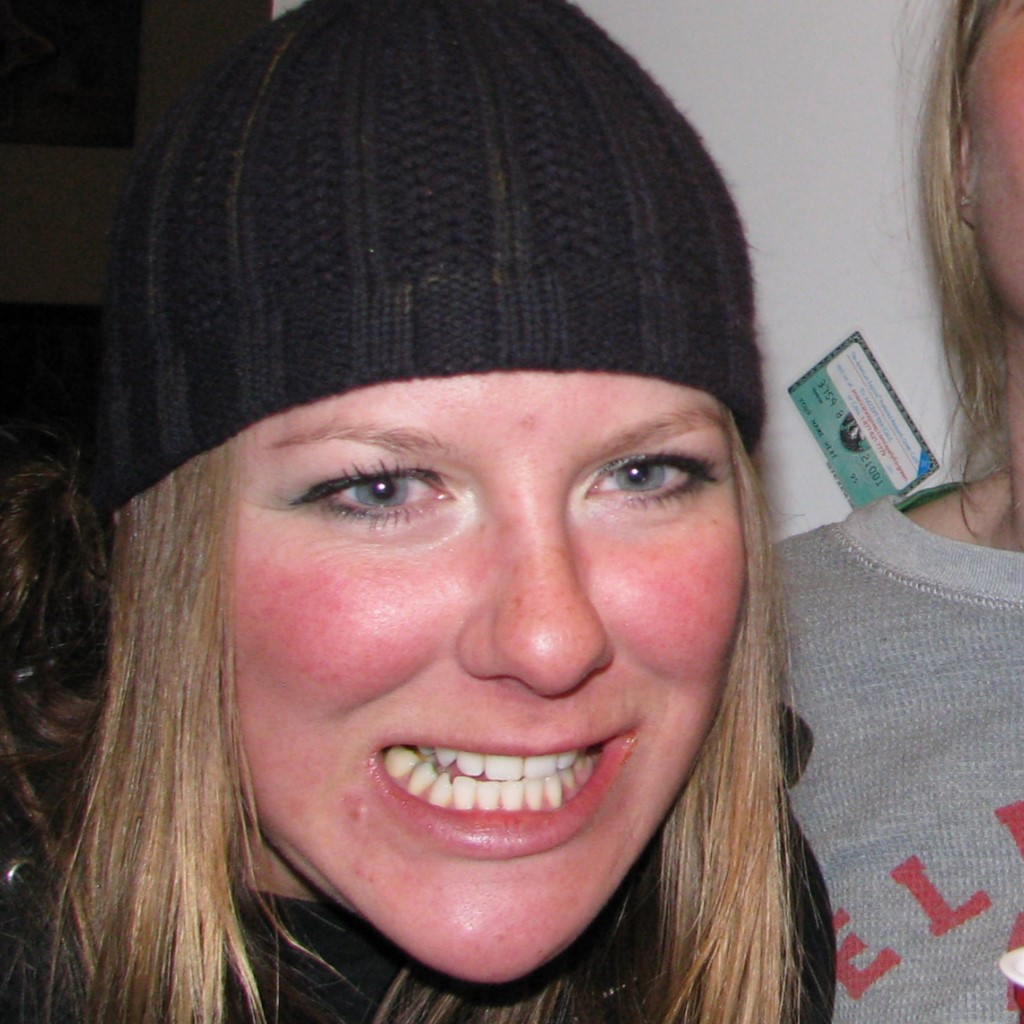sin_mascara: (137, 98, 743, 987)
